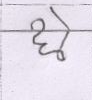e_matra: (50, 7, 71, 28)
